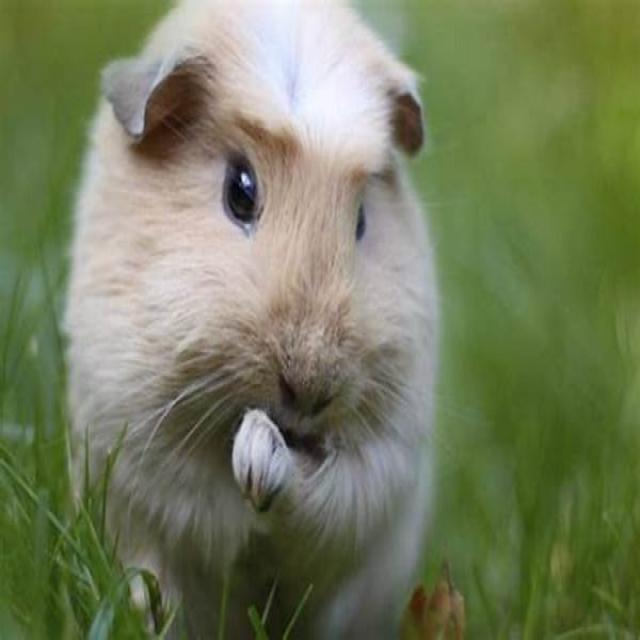guinea pig: (86, 0, 440, 630)
